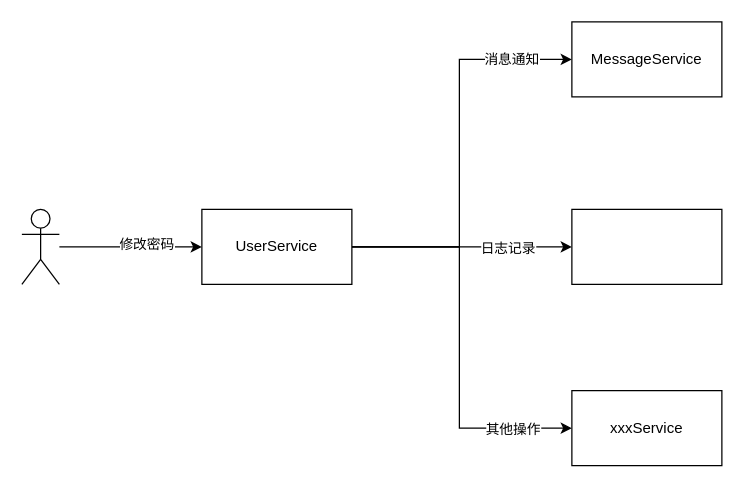
Some shapes in this 744 by 488 pixel diagram are drawn without their labels. The shapes that lost their labels are listed below. From the top down, each one's box as (x1, y1, x2, y2) in pixels, then its label:
(21, 208, 59, 284): Actor
(571, 208, 722, 284): LogService
